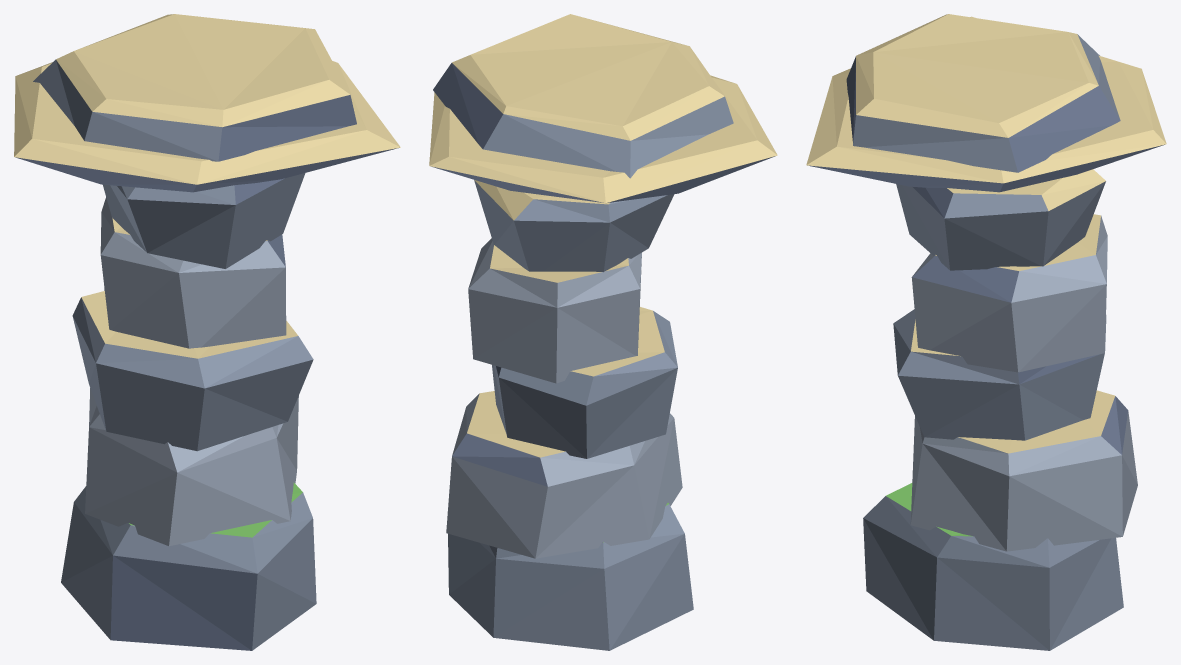
Rendered from rock_pillar_reef.fbx.
The picture shows the model from 3 angles, left to right: view 1: azimuth 30°, elevation 25°; view 2: azimuth 150°, elevation 25°; view 3: azimuth 270°, elevation 25°; orthographic projection. The views are drawn at different scales.
Parts seen in each view (by area): view 1: rock_pillar_reef; view 2: rock_pillar_reef; view 3: rock_pillar_reef.
Part boxes in pixels (x1=…): rock_pillar_reef: x1=14, y1=14, x2=400, y2=650; rock_pillar_reef: x1=429, y1=14, x2=777, y2=650; rock_pillar_reef: x1=806, y1=14, x2=1166, y2=650.
Size of the model in its own units: 1438 by 2219 by 1355.
Materials: 1 (1 with a texture image).
